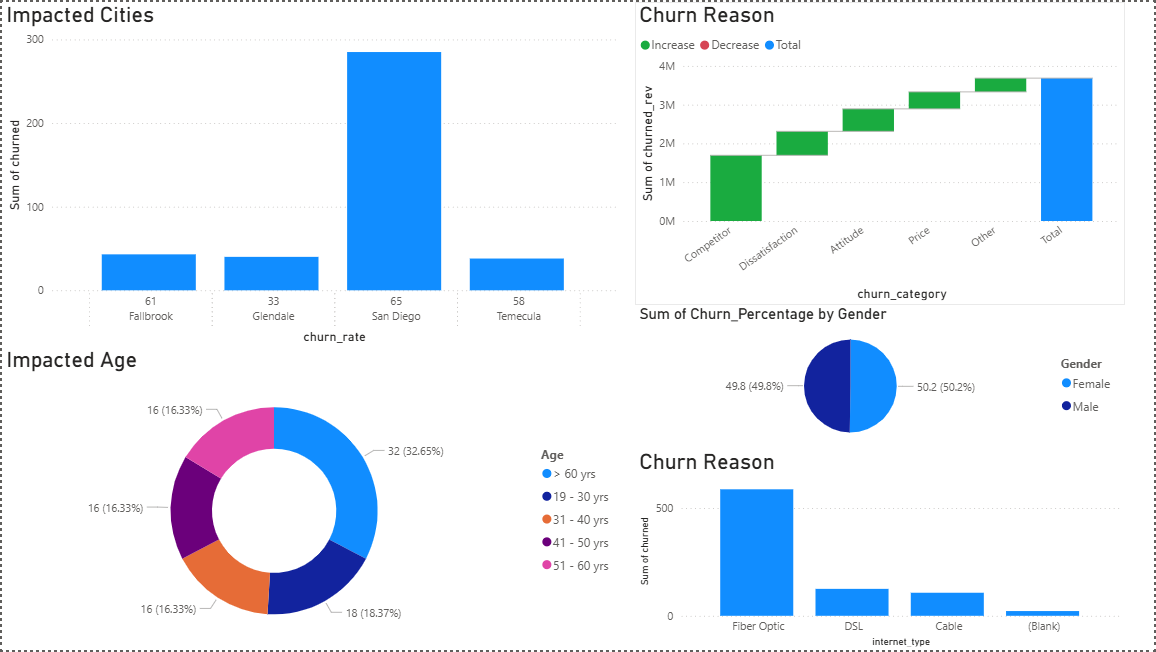

This screenshot's page, from the dashboard's own definition file:
{"tool":"powerbi","page":{"name":"Page 2","canvas":[1280,720],"ordinal":1},"visuals":[{"type":"waterfallChart","title":"Churn Reason","fields":{"Category":["Query4.churn_category"],"Y":["Sum(Query4.churned_rev)"]},"box":[704,0,544,336],"z":0},{"type":"donutChart","title":"Impacted Age","fields":{"Category":["Query6.Age"],"Y":["Sum(Query6.Churn_Percentage)"]},"box":[0,384,688,336],"z":1},{"type":"pieChart","fields":{"Y":["Sum(Query7.Churn_Percentage)"],"Category":["Query7.Gender"]},"box":[704,336,544,160],"z":2},{"type":"clusteredColumnChart","title":"Churn Reason","fields":{"Category":["Query5.internet_type"],"Y":["Sum(Query5.churned)"]},"box":[704,496,544,224],"z":3},{"type":"columnChart","title":"Impacted Cities","fields":{"Category":["Query3.city","Query3.churn_rate"],"Y":["Sum(Query3.churned)"]},"box":[0,0,688,384],"z":4}]}

Visuals, with their boxes in screenshot pixels (x1, y1, x2, y2), scaled from the page's 1280x720 canvas onto the 1156x652 screenshot:
"Churn Reason" waterfallChart: box(636, 0, 1127, 304)
"Impacted Age" donutChart: box(0, 348, 621, 651)
pieChart - Sum(Query7.Churn_Percentage) x Query7.Gender: box(636, 304, 1127, 449)
"Churn Reason" clusteredColumnChart: box(636, 449, 1127, 651)
"Impacted Cities" columnChart: box(0, 0, 621, 348)
